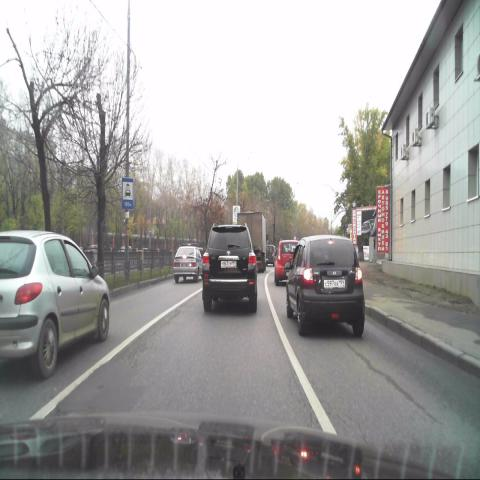7_5: (121, 176, 134, 209)
